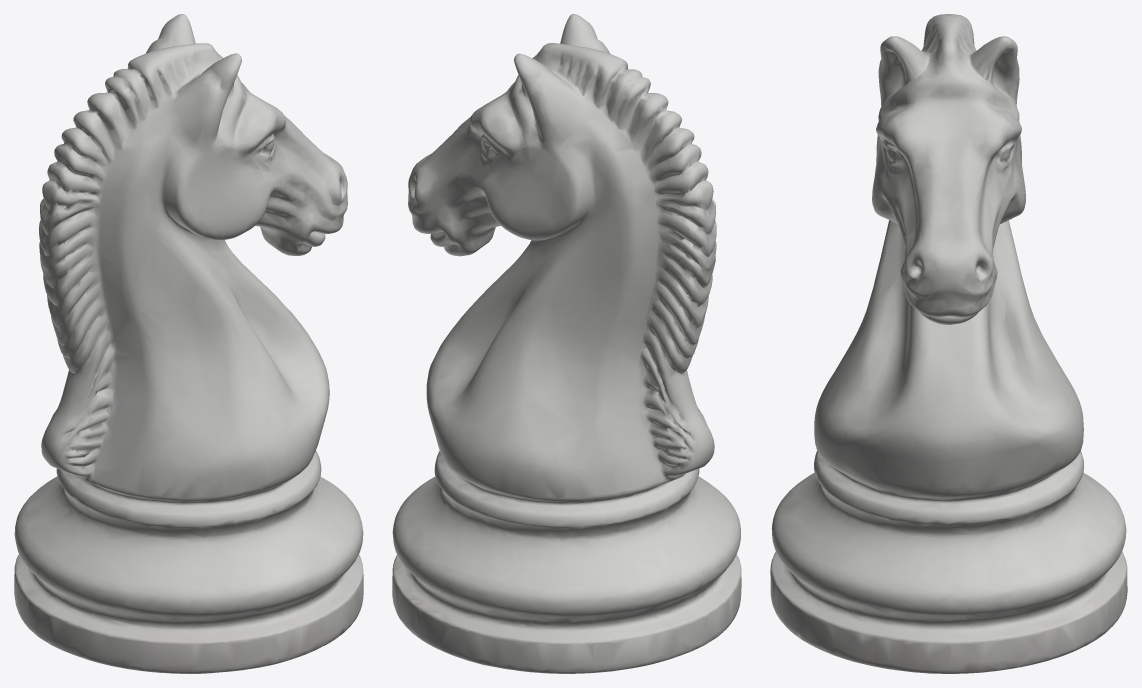
The model's file is knight_med.glb.
3 renders of one model, left to right at view 1: azimuth 30°, elevation 25°; view 2: azimuth 150°, elevation 25°; view 3: azimuth 270°, elevation 25°, orthographic.
Visible parts, largest first — view 1: world; view 2: world; view 3: world.
Part boxes in pixels (bbox=[...]): world: bbox=[14, 14, 363, 673]; world: bbox=[392, 14, 741, 673]; world: bbox=[770, 14, 1127, 673].
Size of the model in its own units: 0.565 by 1 by 0.5633.
1 material, 1 textured.
